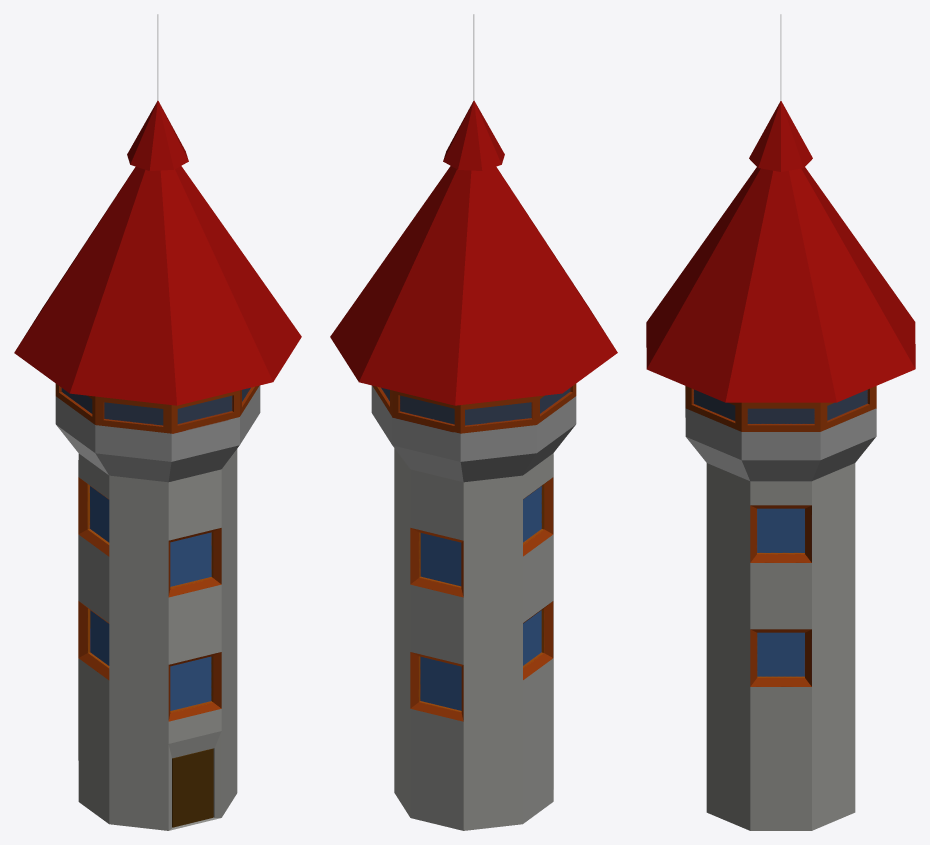
Rendered from MageTowerNew.fbx.
3 renders of one model, left to right at view 1: azimuth 30°, elevation 25°; view 2: azimuth 150°, elevation 25°; view 3: azimuth 270°, elevation 25°, orthographic.
Parts seen in each view (by area): view 1: Roof, Tower, Attic, Windows, Door, Entrance; view 2: Tower, Roof, Attic, Windows; view 3: Roof, Tower, Attic, Windows.
Boxes of the visible parts, left/top/right/bottom form: Roof: left=14, top=100, right=301, bottom=405; Tower: left=78, top=449, right=237, bottom=830; Attic: left=55, top=383, right=260, bottom=482; Windows: left=78, top=477, right=221, bottom=721; Door: left=172, top=748, right=213, bottom=827; Entrance: left=168, top=731, right=221, bottom=830; Tower: left=394, top=448, right=553, bottom=830; Roof: left=330, top=100, right=617, bottom=405; Attic: left=371, top=384, right=576, bottom=482; Windows: left=410, top=477, right=553, bottom=721; Roof: left=646, top=101, right=915, bottom=402; Tower: left=706, top=463, right=855, bottom=830; Attic: left=685, top=386, right=876, bottom=481; Windows: left=750, top=505, right=811, bottom=686.
Size of the model in its own units: 837 by 2700 by 837.
